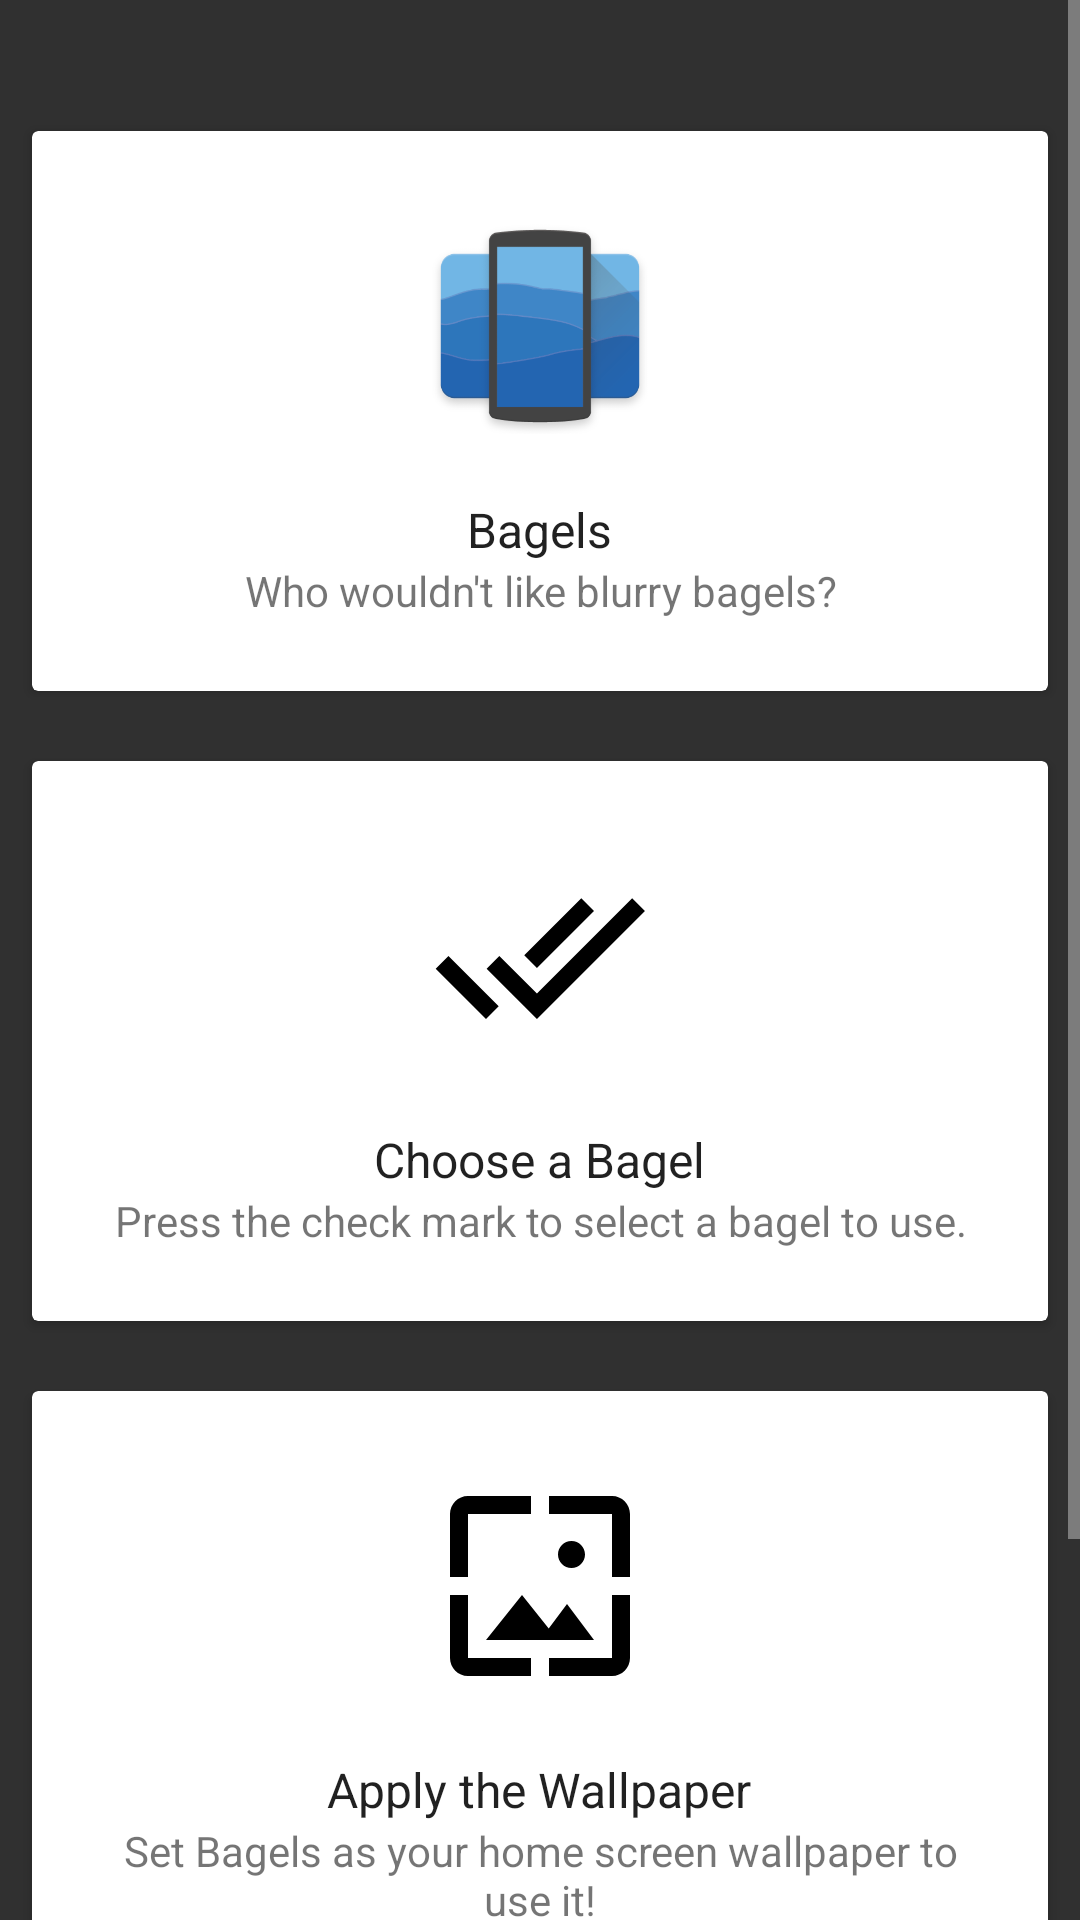

Icons on this 1080 × 1920 Android screen, each with the point to tap as (x=x, y=y):
checks: (x=540, y=958)
